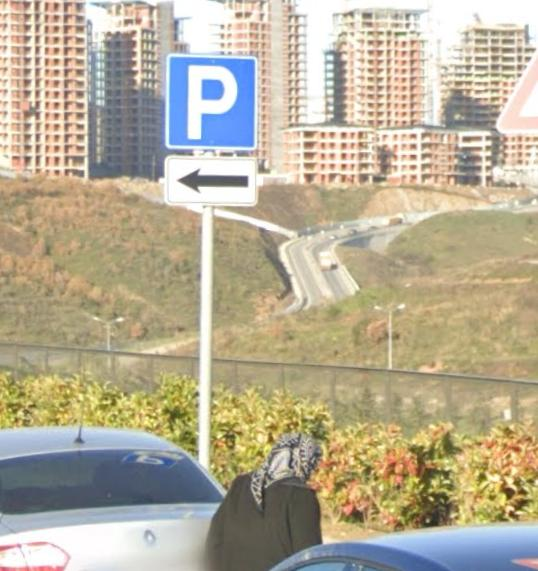park: (167, 55, 259, 150)
